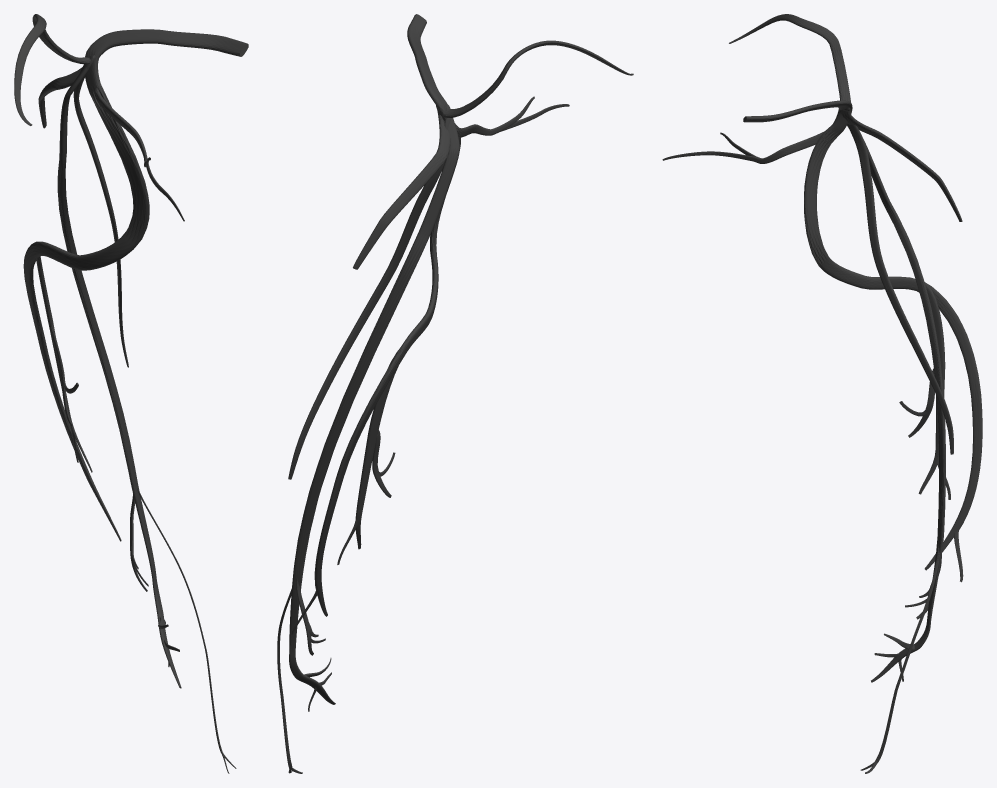
File: R_Trigeminus_Mandibular.glb
The picture shows the model from 3 angles, left to right: view 1: azimuth 30°, elevation 25°; view 2: azimuth 150°, elevation 25°; view 3: azimuth 270°, elevation 25°; orthographic projection. The views are drawn at different scales.
Parts seen in each view (by area): view 1: R_Trigeminus_Mandibular; view 2: R_Trigeminus_Mandibular; view 3: R_Trigeminus_Mandibular.
Boxes of the visible parts, <box> form: R_Trigeminus_Mandibular: <box>14,14,248,773</box>; R_Trigeminus_Mandibular: <box>277,14,633,773</box>; R_Trigeminus_Mandibular: <box>662,14,982,773</box>.
Bounding box in the file's own units: 0.5168 × 1.4 × 0.6114.
Materials: 1 (1 with a texture image).
